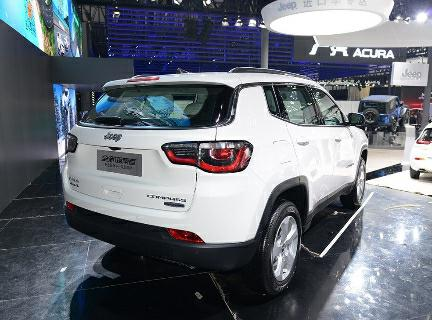Jeep-指南者: (58, 60, 378, 300)
